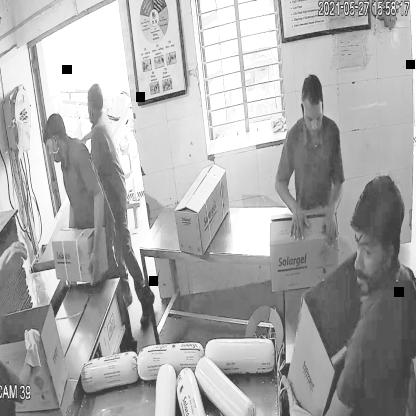no_goggles: (351, 238, 389, 268), (300, 104, 328, 130)
